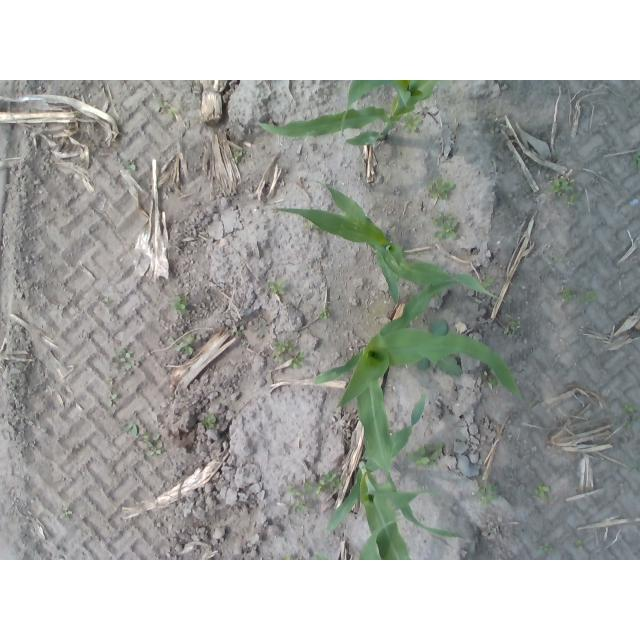Maize: (311, 281, 470, 541), (274, 178, 506, 303), (324, 396, 472, 561), (256, 80, 440, 146), (312, 516, 404, 560)
Weeds: (416, 353, 464, 377), (405, 441, 443, 467), (547, 177, 578, 206), (433, 211, 458, 240), (426, 177, 456, 201), (315, 471, 343, 494), (142, 432, 167, 457), (474, 483, 499, 506), (170, 333, 195, 355), (111, 347, 133, 370), (154, 99, 178, 120), (271, 341, 293, 363), (401, 111, 422, 132), (483, 368, 502, 389), (172, 294, 190, 315), (426, 319, 449, 335), (533, 483, 550, 502), (577, 289, 599, 303), (118, 421, 138, 436), (560, 285, 576, 303), (291, 351, 306, 370), (305, 219, 324, 233), (268, 281, 286, 295), (201, 413, 215, 430), (504, 321, 521, 335), (630, 151, 640, 174), (294, 497, 309, 511), (621, 403, 639, 414), (102, 393, 116, 407), (287, 484, 302, 497), (60, 508, 73, 521), (479, 277, 493, 289), (123, 159, 138, 170), (318, 308, 331, 320), (304, 481, 315, 495), (229, 325, 244, 335), (233, 150, 243, 164), (539, 545, 554, 554), (623, 421, 634, 432), (574, 538, 584, 550), (552, 254, 565, 262), (524, 398, 536, 406), (102, 296, 112, 305), (282, 554, 290, 560)
